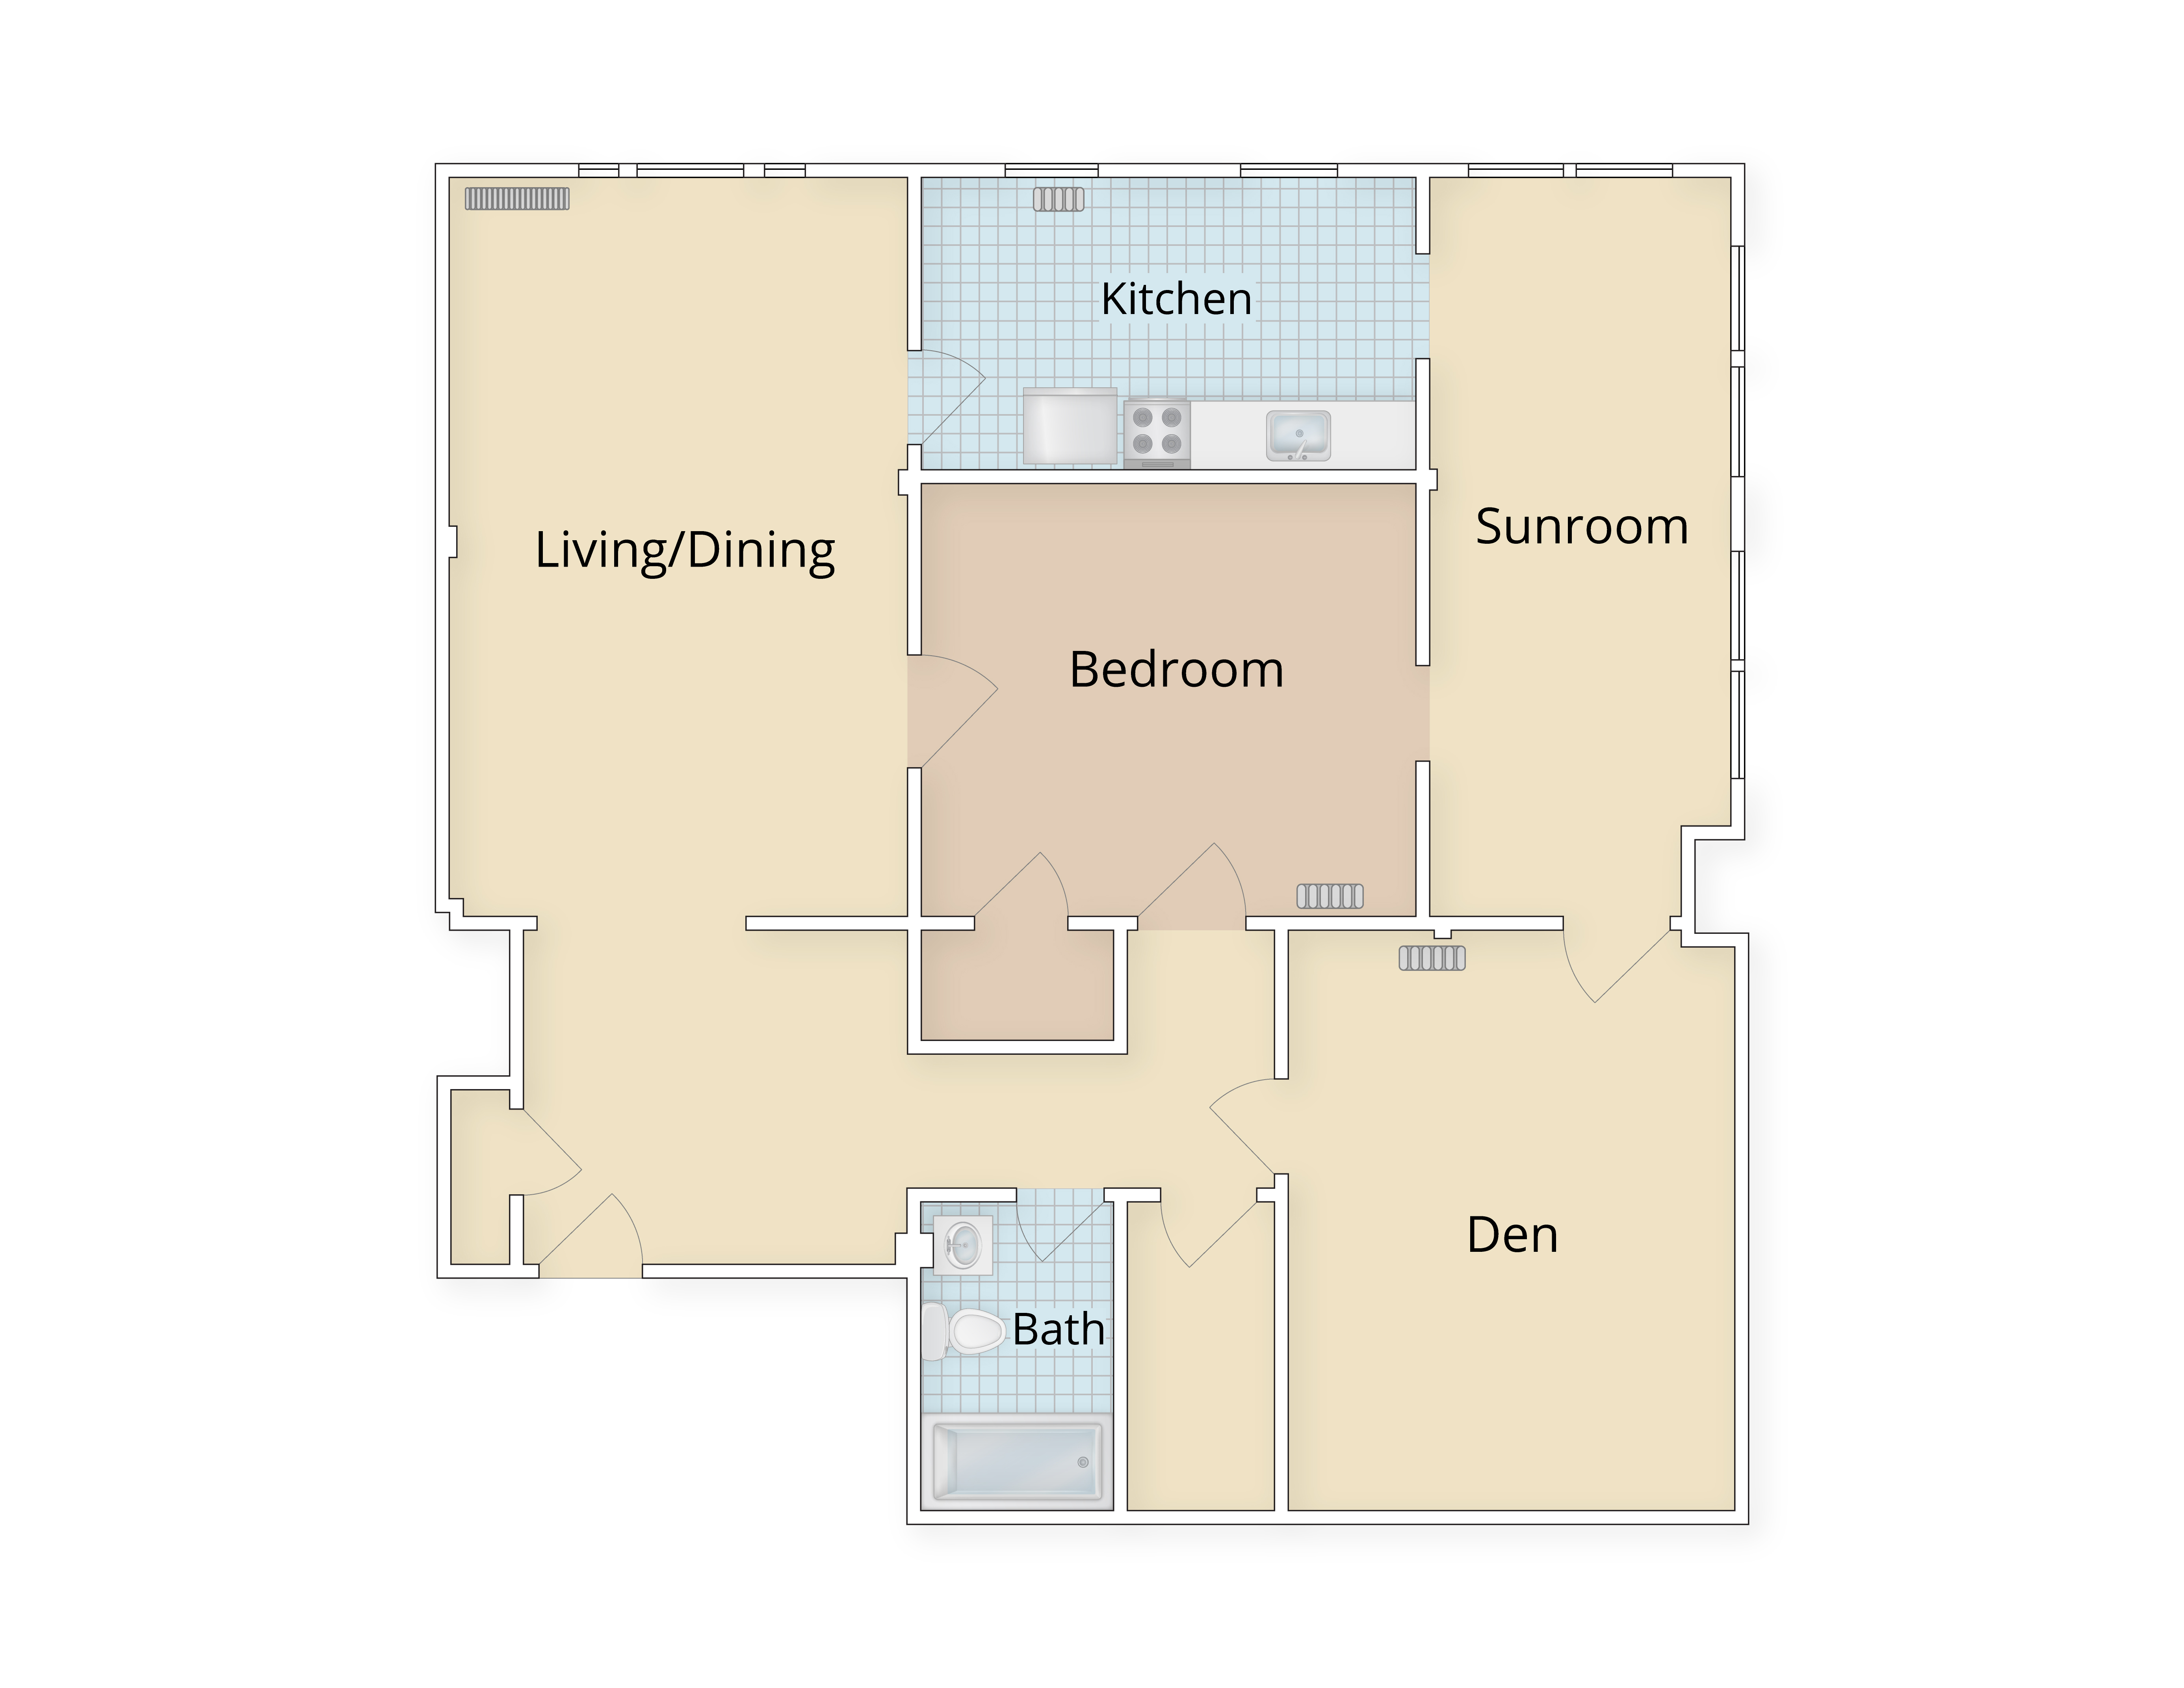window: (635, 160, 748, 181), (1002, 160, 1103, 183), (1466, 160, 1567, 183), (1728, 367, 1748, 477), (1728, 551, 1748, 661), (1237, 161, 1337, 183), (1574, 160, 1673, 181), (1728, 670, 1748, 778), (1728, 246, 1748, 351), (574, 160, 628, 183), (759, 160, 810, 183)
